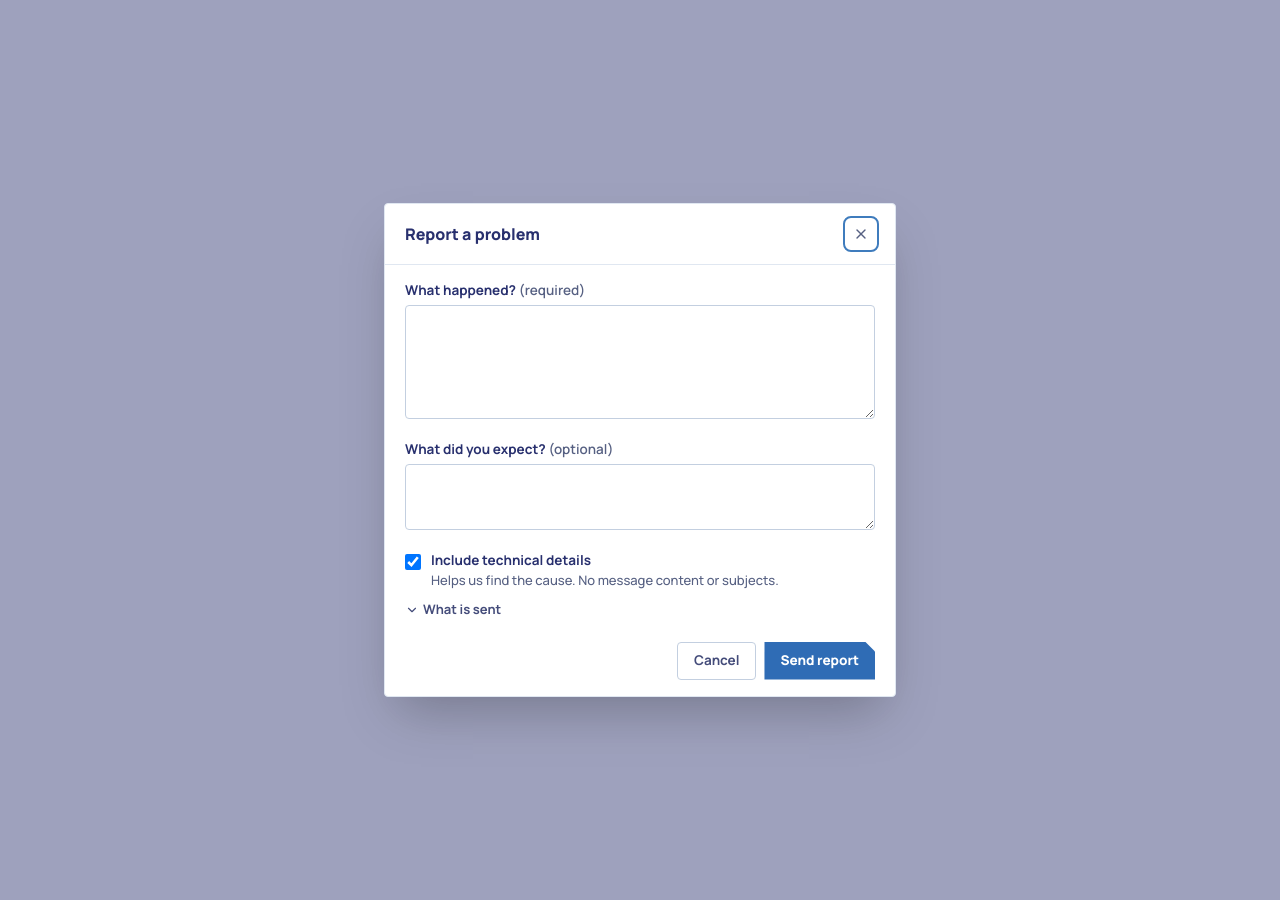
Report a problem form › needs "What happened?" before it sends anything
Step 1. Click the button "Send report" → (820, 661), box x1=764 y1=642 x2=875 y2=680
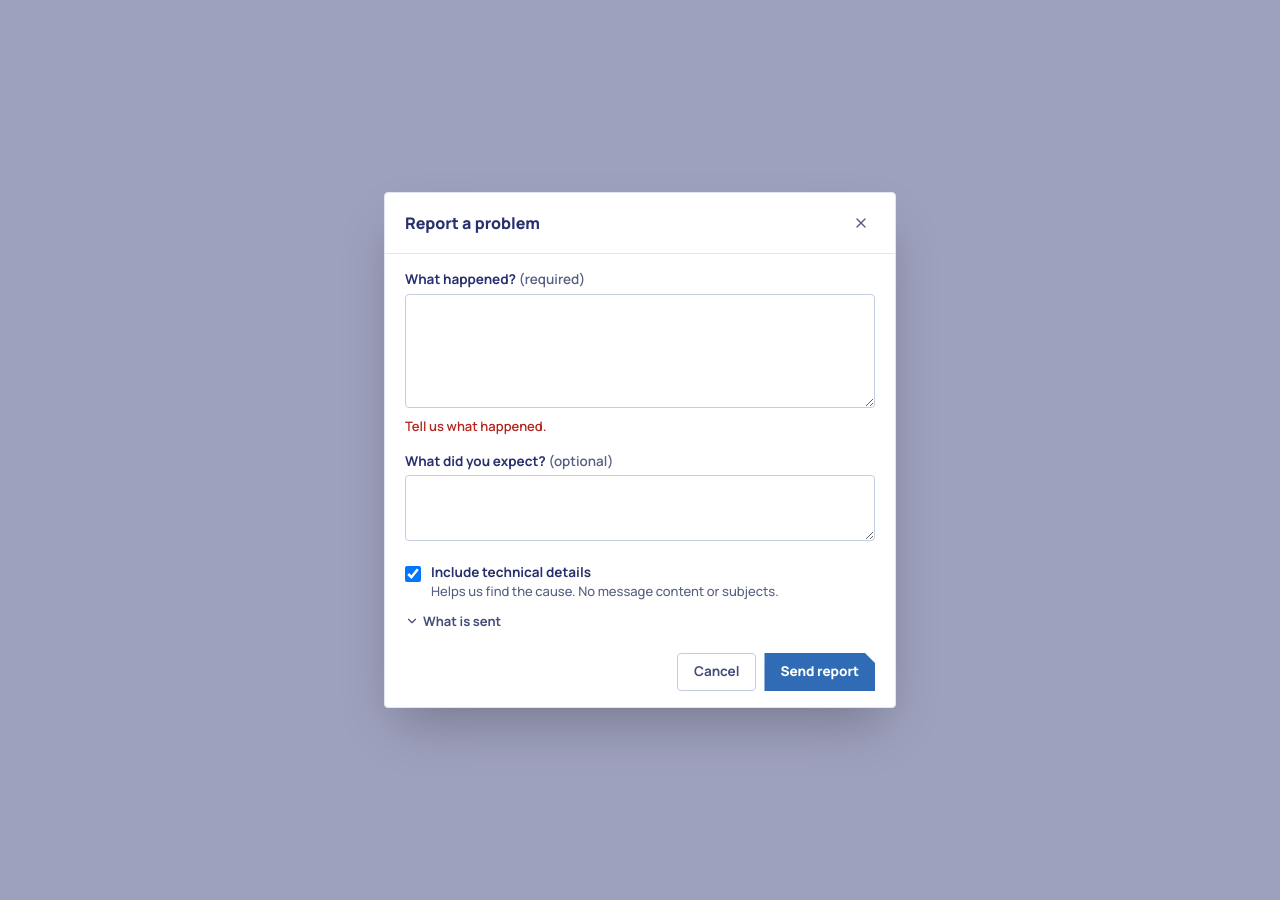
Expected: the message shows "what happened", x1=405 y1=417 x2=546 y2=435
